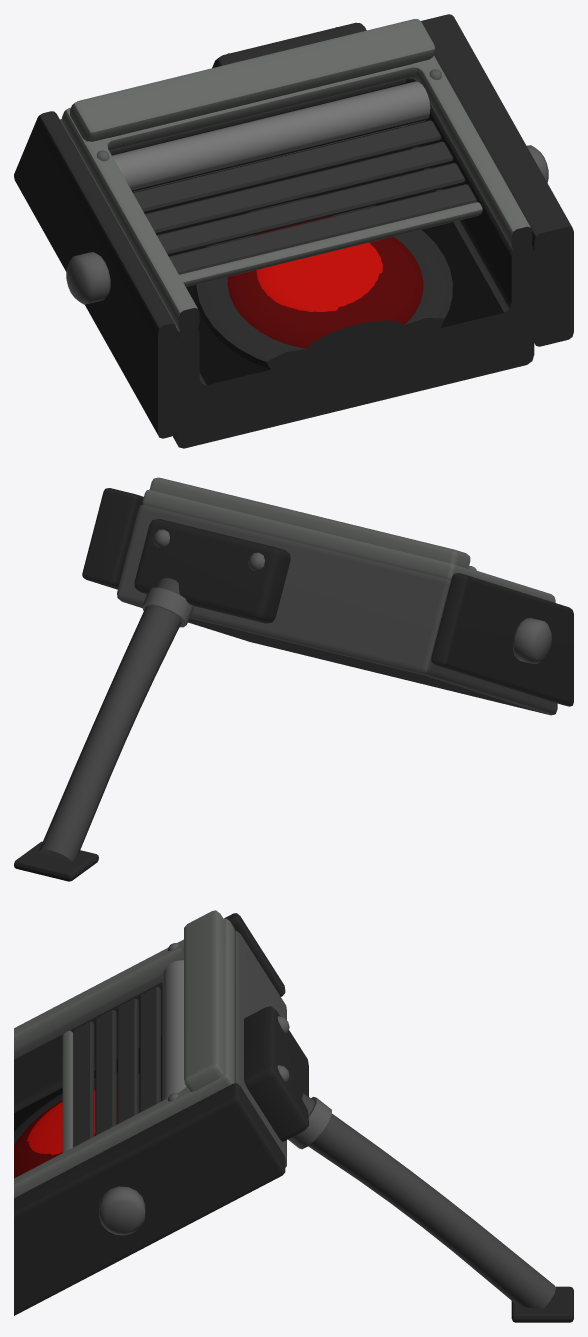
The model's file is cliff_bunker_top_157.glb.
The picture shows the model from 3 angles, top to bottom: view 1: azimuth 30°, elevation 25°; view 2: azimuth 150°, elevation 25°; view 3: azimuth 270°, elevation 25°; orthographic projection. The views are drawn at different scales.
Parts seen in each view (by area): view 1: box.001, bracket0.001, brow.001, frame.001, bracket1.001, roll.001, eye.001, eye_socket.001, slat2.001, slat3.001, slat1.001, slat0.001 (+5 smaller); view 2: box.001, bracket0.001, strut.001, mount.001, frame.001, brow.001, bracket1.001, strut_foot.001, knob0.001, strut_collar.001; view 3: bracket1.001, strut.001, frame.001, box.001, brow.001, mount.001, roll.001, slat3.001, slat0.001, slat2.001, slat1.001, knob1.001 (+7 smaller).
Part boxes in pixels (x1=…): box.001: x1=60, y1=78, x2=534, y2=448; bracket0.001: x1=14, y1=111, x2=176, y2=438; brow.001: x1=70, y1=19, x2=435, y2=141; frame.001: x1=62, y1=55, x2=532, y2=332; bracket1.001: x1=421, y1=14, x2=573, y2=346; roll.001: x1=112, y1=81, x2=430, y2=192; eye.001: x1=227, y1=216, x2=423, y2=358; eye_socket.001: x1=194, y1=197, x2=452, y2=371; slat2.001: x1=145, y1=141, x2=453, y2=234; slat3.001: x1=133, y1=120, x2=441, y2=212; slat1.001: x1=157, y1=163, x2=465, y2=255; slat0.001: x1=169, y1=184, x2=477, y2=274; box.001: x1=117, y1=504, x2=557, y2=715; bracket0.001: x1=431, y1=573, x2=573, y2=706; strut.001: x1=39, y1=578, x2=181, y2=861; mount.001: x1=134, y1=519, x2=290, y2=623; frame.001: x1=142, y1=489, x2=555, y2=602; brow.001: x1=149, y1=477, x2=470, y2=568; bracket1.001: x1=82, y1=488, x2=143, y2=589; strut_foot.001: x1=14, y1=841, x2=98, y2=881; knob0.001: x1=512, y1=618, x2=551, y2=663; strut_collar.001: x1=142, y1=587, x2=193, y2=627; bracket1.001: x1=14, y1=1083, x2=285, y2=1315; strut.001: x1=302, y1=1092, x2=555, y2=1308; frame.001: x1=14, y1=918, x2=234, y2=1197; box.001: x1=14, y1=930, x2=286, y2=1167; brow.001: x1=184, y1=910, x2=224, y2=1091; mount.001: x1=244, y1=1006, x2=308, y2=1141; roll.001: x1=162, y1=960, x2=185, y2=1100; slat3.001: x1=139, y1=986, x2=160, y2=1112; slat0.001: x1=73, y1=1021, x2=94, y2=1147; slat2.001: x1=117, y1=998, x2=138, y2=1123; slat1.001: x1=95, y1=1010, x2=116, y2=1135; knob1.001: x1=99, y1=1186, x2=145, y2=1235.
Size of the model in its own units: 22.5 by 13.62 by 25.2.
